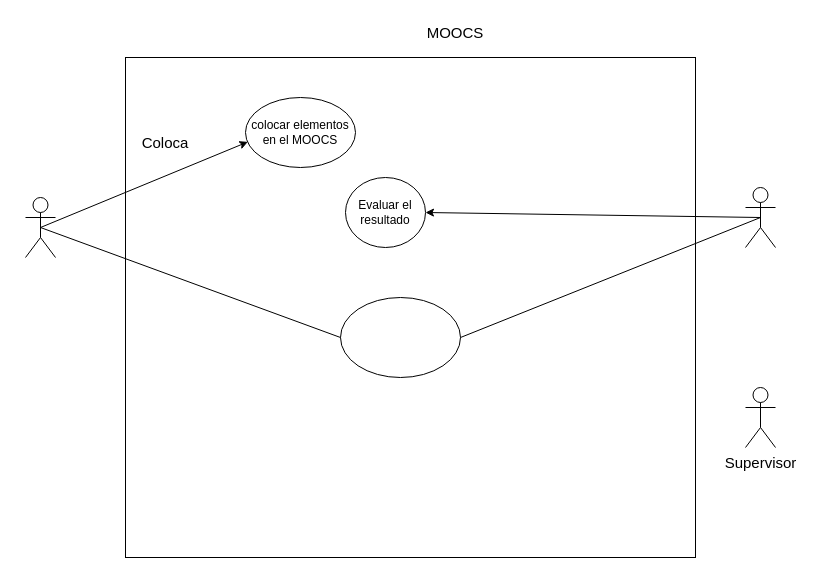
Some shapes in this 814 by 575 pixel diagram are drawn without their labels. Here are the shapes that lost their labels. From the top down, the centre of each, then its label:
At (40,227): "Discente".
At (760,217): "Docente".
